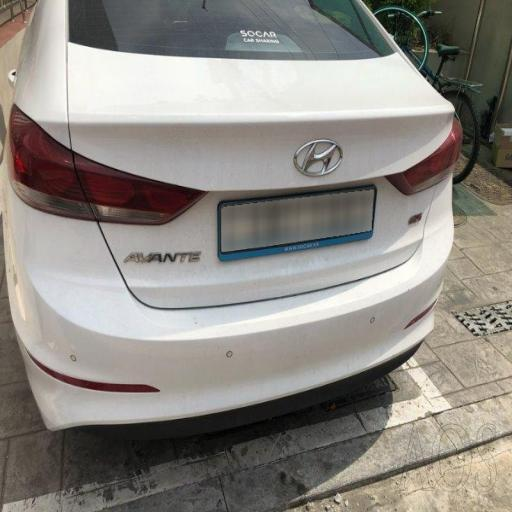normal: (13, 20, 456, 405)
